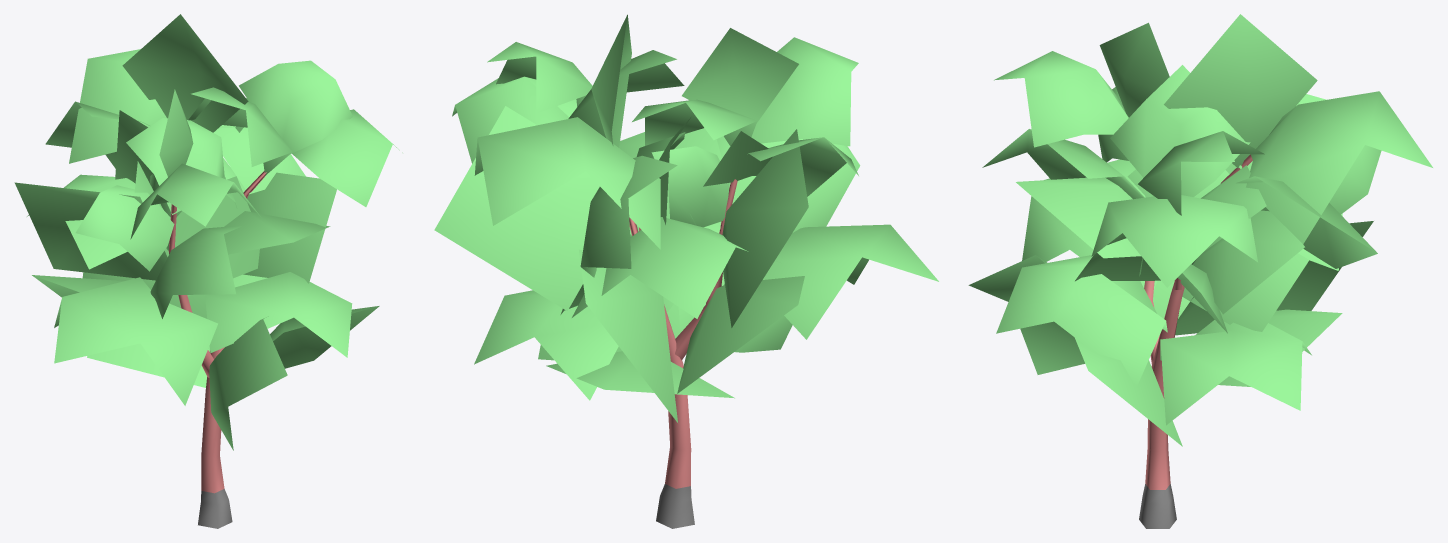
File: Oren_elf_tree05.gltf
3 views of the same model, side by side, from view 1: azimuth 30°, elevation 25°; view 2: azimuth 150°, elevation 25°; view 3: azimuth 270°, elevation 25° (orthographic). The views are drawn at different scales.
Visible parts, largest first — view 1: Oren_elf_tree05; view 2: Oren_elf_tree05; view 3: Oren_elf_tree05.
Boxes of the visible parts, x1,y1,x2,y2 form: Oren_elf_tree05: [14, 14, 402, 528]; Oren_elf_tree05: [434, 14, 938, 528]; Oren_elf_tree05: [968, 14, 1432, 528].
Size of the model in its own units: 8.12 by 9.43 by 7.79.
